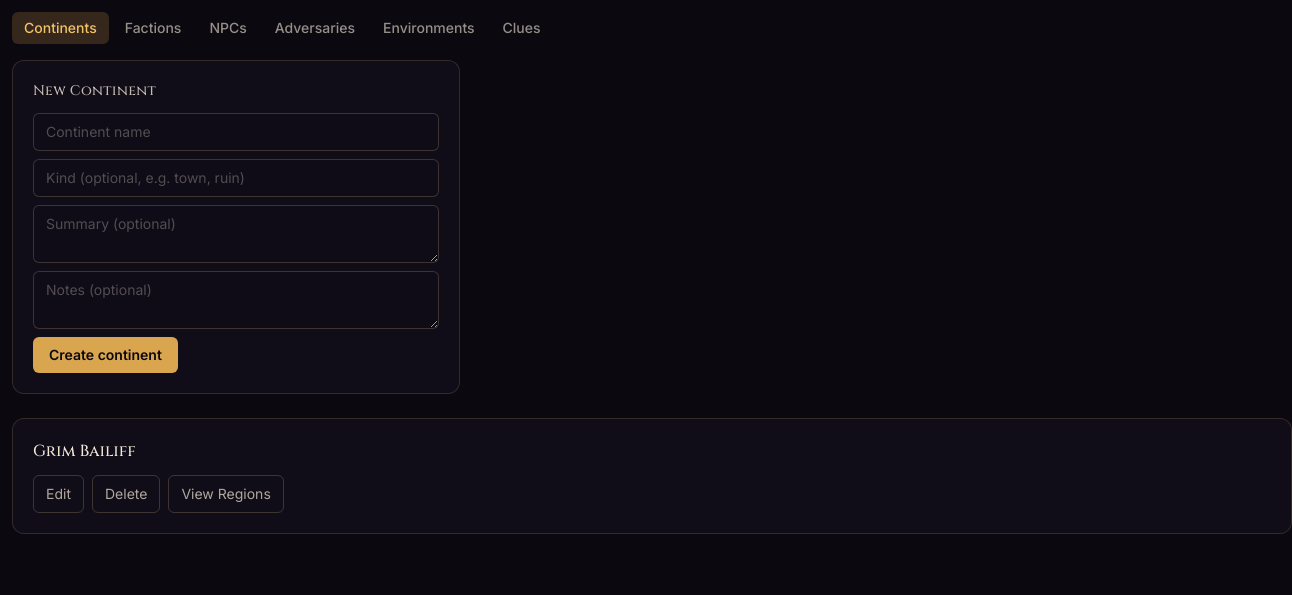
Test case: LibraryPage › shows an adversary card with its GM notes
Click the button "Adversaries" at (315, 28), box [263,12,367,44]
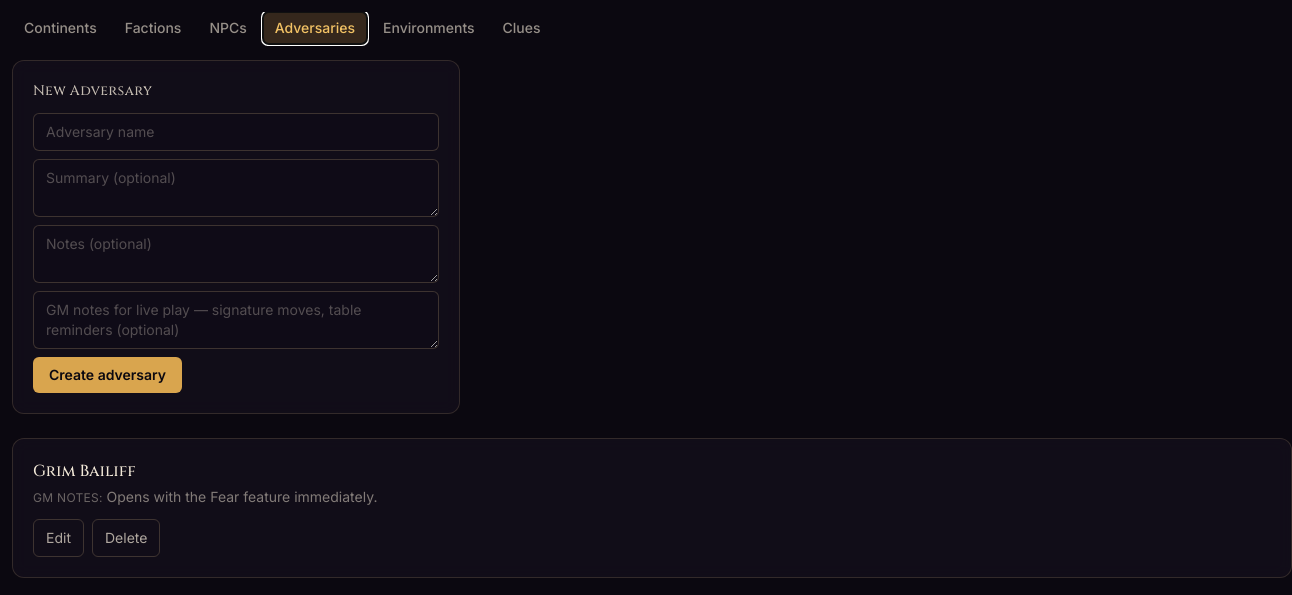
Expected: the heading "Grim Bailiff" is shown, [33,460,136,482]
Now the text "GM notes: Opens with the Fear feature immediately." is shown, box [33,488,377,505]
